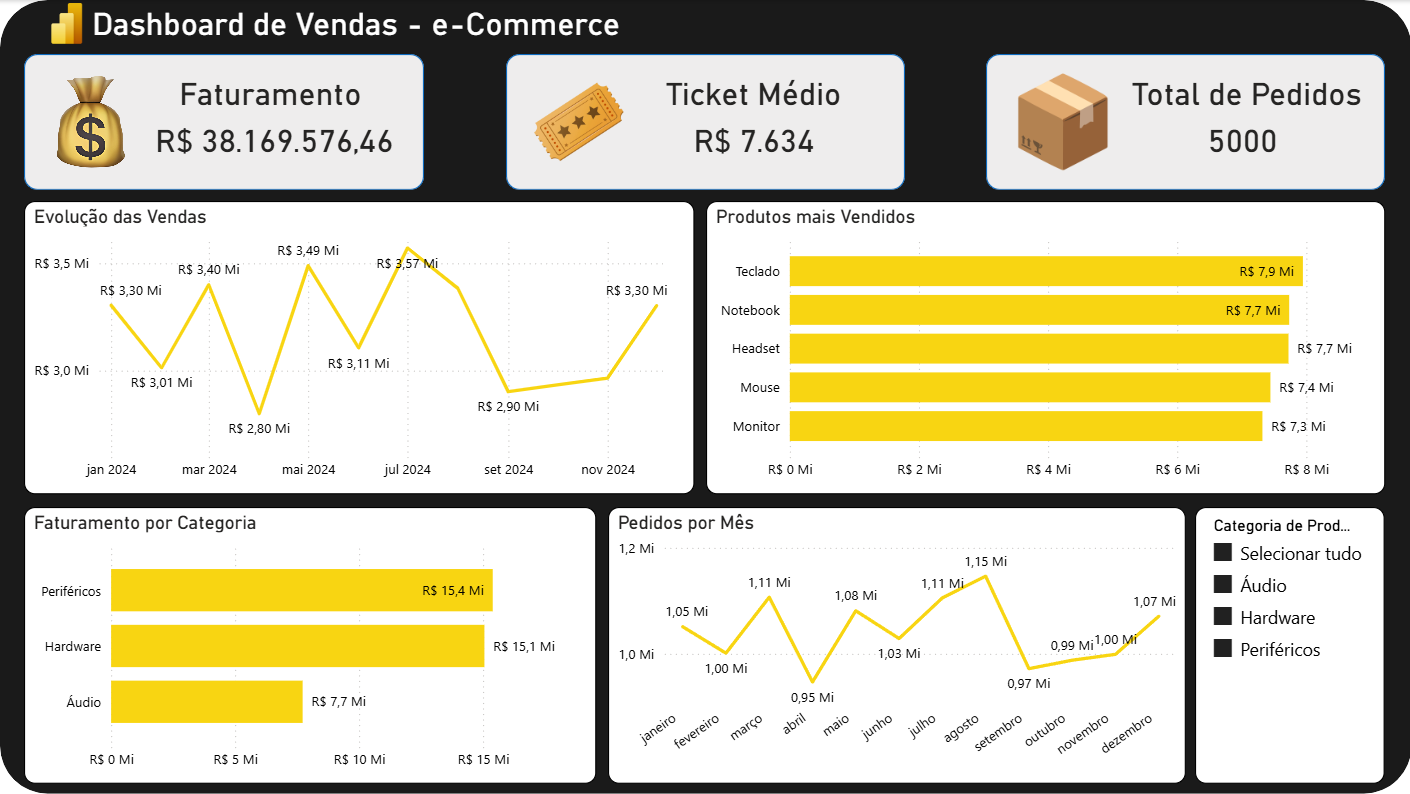

What the dashboard file says about the page in this screenshot:
{"tool":"powerbi","page":{"name":"Página 1","canvas":[1280,720],"ordinal":0},"visuals":[{"type":"shape","box":[0,0,1280,719.8],"z":0},{"type":"shape","box":[21.8,49,362.7,123.3],"z":1000},{"type":"textbox","box":[78.9,0,494.2,49],"z":2000},{"type":"image","box":[39,2.7,43.5,37.2],"z":3000},{"type":"shape","box":[894.1,49,361.8,123.3],"z":4000},{"type":"shape","box":[458.8,49,361.8,123.3],"z":5000},{"type":"image","box":[477,63.5,96.1,94.3],"z":6000},{"type":"card","fields":{"Values":["Avg(Consulta1.Valor_Total)"]},"box":[598.5,100.7,170.5,50.8],"z":7000},{"type":"textbox","box":[598.5,63.5,170.5,55.3],"z":8000},{"type":"image","box":[25.4,56.2,113.4,108.8],"z":9000},{"type":"card","fields":{"Values":["Sum(Consulta1.Valor_Total)"]},"box":[126,100.7,245.7,50.8],"z":10000},{"type":"image","box":[915.9,63.5,96.1,94.3],"z":11000},{"type":"textbox","box":[157.8,63.5,185,47.2],"z":12000},{"type":"card","fields":{"Values":["Count(Consulta1.ID_Transacao)"]},"box":[1041,100.7,170.5,50.8],"z":13000},{"type":"textbox","box":[1021.1,63.5,234.9,47.2],"z":14000},{"type":"lineChart","title":"Evolução das Vendas","fields":{"Y":["Sum(Consulta1.Valor_Total)"],"Category":["Consulta1.Data_Venda.Variation.Hierarquia de datas.Ano","Consulta1.Data_Venda.Variation.Hierarquia de datas.Mês"]},"box":[21.8,182.3,607.6,265.7],"z":15000},{"type":"barChart","title":"Faturamento por Categoria","fields":{"Category":["Consulta1.Categoria_Produto"],"Y":["Sum(Consulta1.Valor_Total)"]},"box":[21.8,459.7,518.7,251.2],"z":16000},{"type":"clusteredBarChart","title":"Produtos mais Vendidos","fields":{"Y":["Sum(Consulta1.Valor_Total)"],"Category":["Consulta1.Nome_Produto"]},"box":[640.2,182.3,615.7,265.7],"z":17000},{"type":"slicer","fields":{"Values":["Consulta1.Categoria_Produto"]},"box":[1083.6,459.7,172.3,251.2],"z":18000},{"type":"lineChart","title":"Pedidos por Mês","fields":{"Category":["Consulta1.Data_Venda.Variation.Hierarquia de datas.Mês"],"Y":["Sum(Consulta1.ID_Transacao)"]},"box":[551.3,459.7,524.1,251.2],"z":18001}]}

Visuals, with their boxes in screenshot pixels (x1, y1, x2, y2), scaled from the page's 1280x720 canvas onto the 1410x794 screenshot:
shape: 0,0,1409,793
shape: 24,54,424,190
textbox: 87,0,631,54
image: 43,3,91,44
shape: 985,54,1383,190
shape: 505,54,904,190
image: 525,70,631,174
card - Avg(Consulta1.Valor_Total): 659,111,847,167
textbox: 659,70,847,131
image: 28,62,153,182
card - Sum(Consulta1.Valor_Total): 139,111,409,167
image: 1009,70,1115,174
textbox: 174,70,378,122
card - Count(Consulta1.ID_Transacao): 1147,111,1335,167
textbox: 1125,70,1384,122
"Evolução das Vendas" lineChart: 24,201,693,494
"Faturamento por Categoria" barChart: 24,507,595,784
"Produtos mais Vendidos" clusteredBarChart: 705,201,1383,494
slicer - Consulta1.Categoria_Produto: 1194,507,1383,784
"Pedidos por Mês" lineChart: 607,507,1185,784
